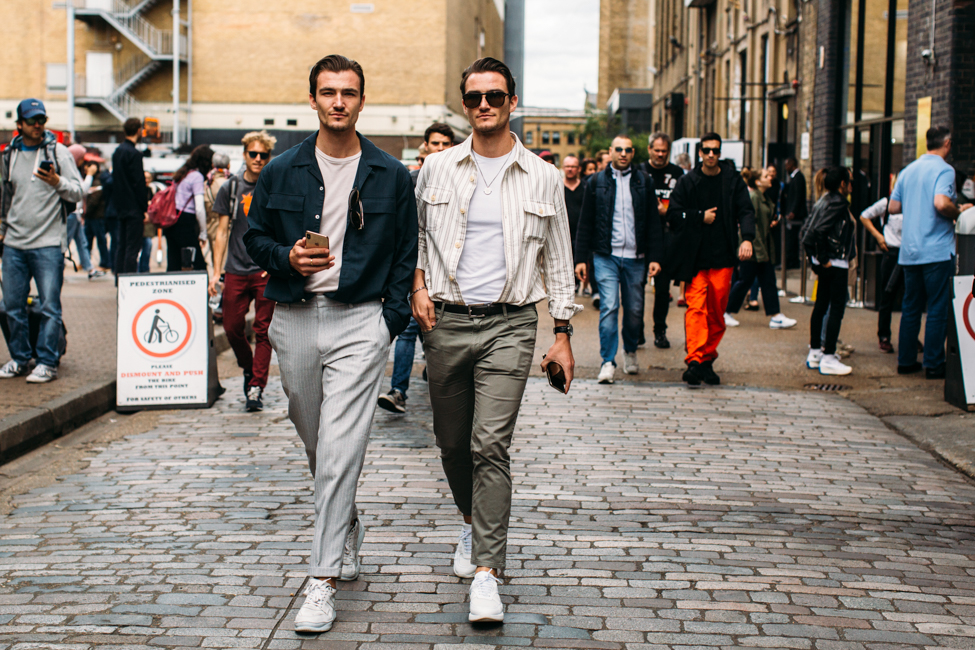person: (400, 54, 588, 631), (240, 38, 416, 633), (662, 127, 758, 388), (4, 97, 88, 383), (207, 124, 291, 409), (577, 132, 663, 393), (884, 124, 960, 385), (802, 169, 857, 383), (156, 130, 226, 271), (728, 165, 791, 321), (106, 112, 152, 279), (642, 129, 682, 190), (416, 119, 457, 155), (556, 148, 589, 188)
